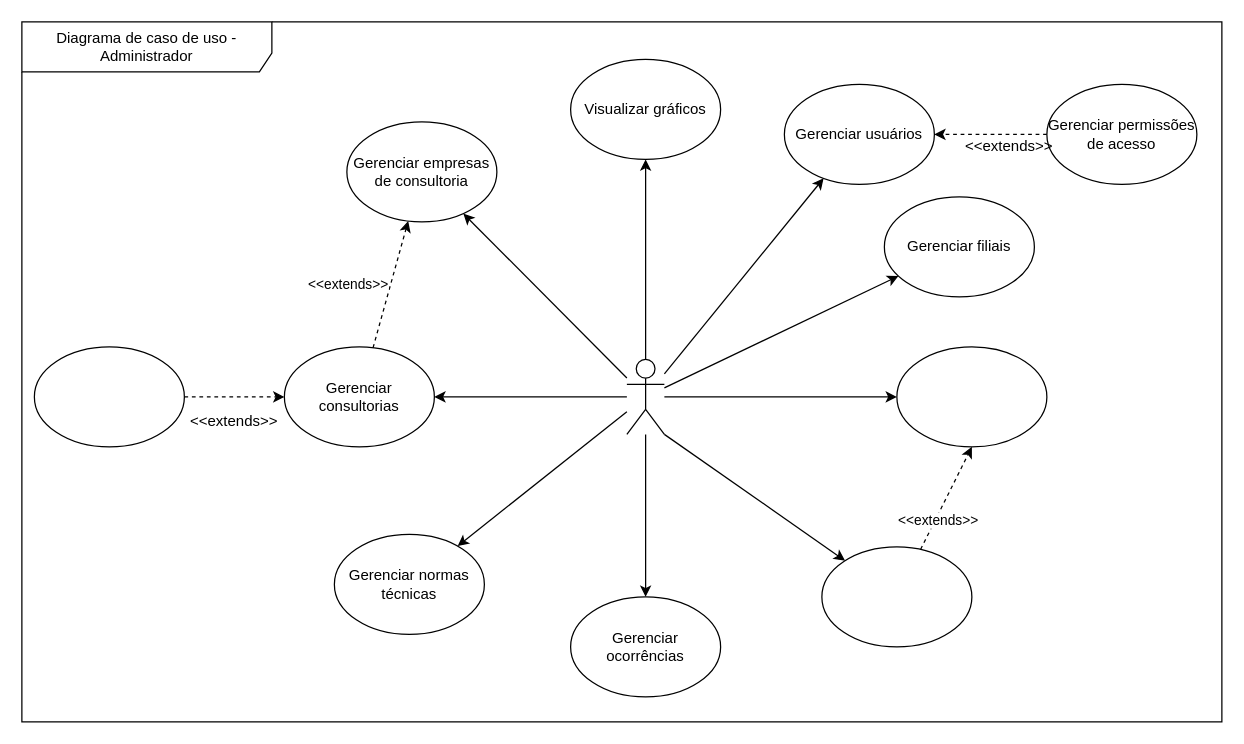
This 1244x744 diagram has some shape labels left out. The box of each missing label's shape, as (x1, y1, x2, y2) in pixels:
Administrador: (626, 358, 664, 434)
Gerenciar anexos: (33, 346, 184, 447)
Gerenciar procedimentos do processo industrial: (821, 546, 972, 647)
Gerenciar processos industriais: (896, 346, 1047, 447)
